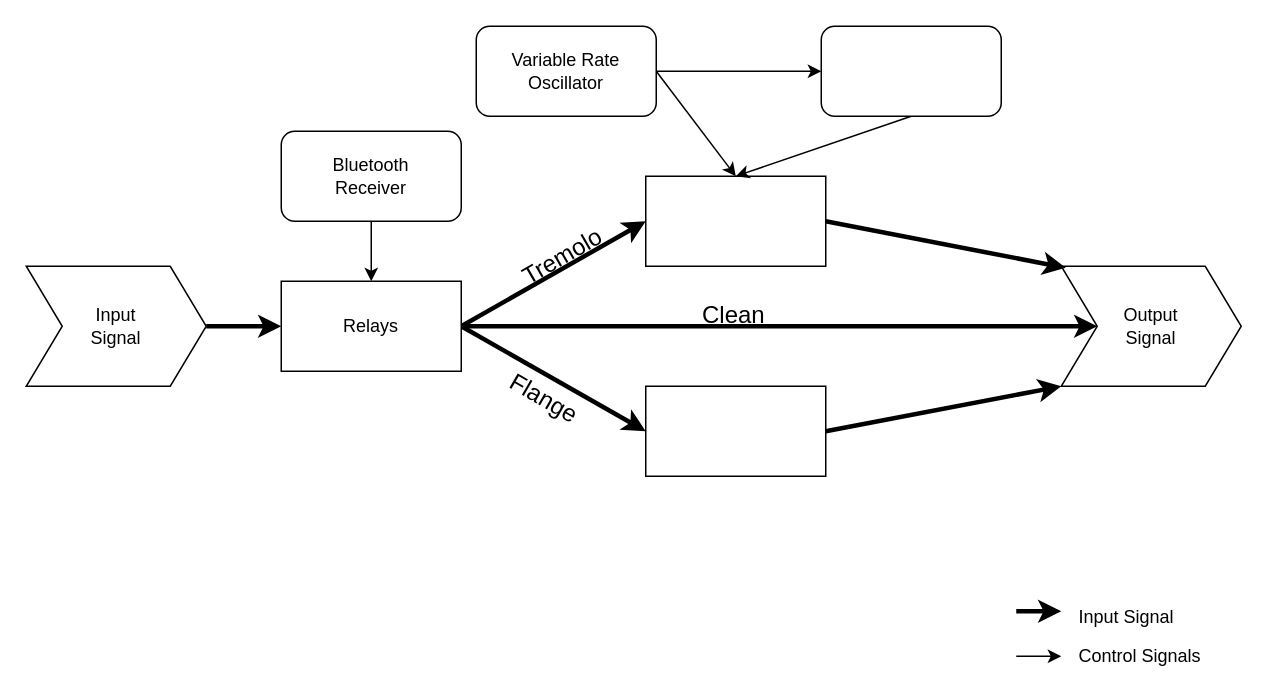
This 1268x698 diagram has some shape labels left out. The shapes that lost their labels are listed below. From the top down, each one's box as (x1, y1, x2, y2) in pixels, then its label:
(820, 25, 1001, 116): Waveform Modification
(644, 175, 826, 266): Analog Mixer
(644, 385, 826, 476): DSP
